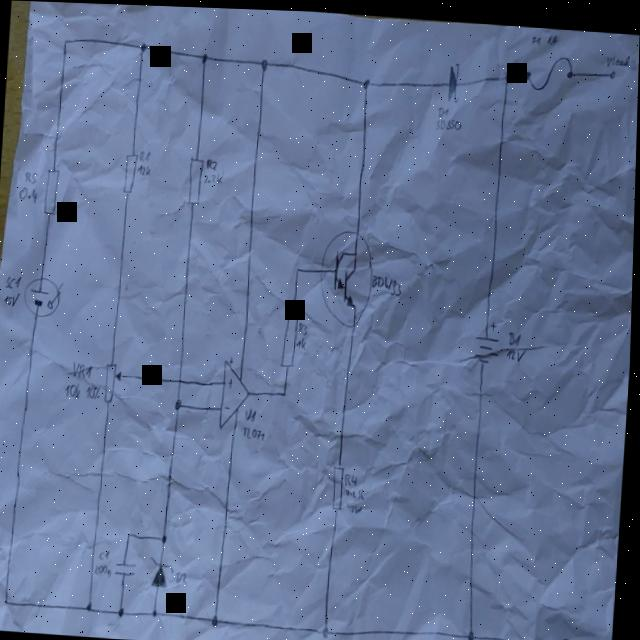capacitor: (116, 558, 141, 577)
crossover: (178, 373, 184, 383)
diode: (151, 553, 178, 587), (446, 57, 459, 99)
junction: (468, 624, 478, 638), (323, 621, 333, 635), (259, 55, 268, 69), (362, 73, 371, 86), (120, 604, 128, 617), (214, 611, 222, 624), (88, 599, 96, 611), (502, 66, 510, 78), (201, 49, 208, 62), (176, 397, 183, 409), (139, 40, 146, 51), (154, 606, 161, 616), (163, 531, 169, 541), (283, 385, 289, 395), (128, 528, 134, 537), (61, 36, 67, 45), (6, 597, 12, 606), (296, 262, 301, 269)
resistor: (281, 309, 300, 366), (42, 164, 62, 214), (187, 155, 205, 204), (105, 359, 125, 403), (332, 458, 348, 509), (122, 150, 138, 193)
source: (473, 314, 504, 361)
terminal: (561, 631, 573, 640), (608, 64, 615, 72)
text: (371, 270, 405, 296), (435, 110, 463, 128), (603, 48, 633, 64), (72, 358, 95, 378), (243, 422, 268, 439), (18, 185, 40, 204), (86, 381, 104, 399), (4, 272, 23, 289), (507, 323, 524, 342), (508, 342, 528, 358), (66, 379, 83, 397), (203, 170, 224, 184), (4, 290, 21, 307), (347, 483, 367, 497), (98, 560, 115, 575), (348, 497, 365, 511), (574, 631, 600, 640), (24, 169, 39, 184), (436, 101, 451, 115), (346, 469, 360, 483), (139, 147, 152, 162), (297, 333, 309, 349), (177, 568, 190, 582), (138, 163, 152, 176), (245, 404, 258, 418), (205, 155, 218, 168), (529, 29, 542, 42), (100, 547, 113, 559), (545, 29, 557, 42), (300, 318, 309, 332)
transistor: (318, 223, 377, 327)
